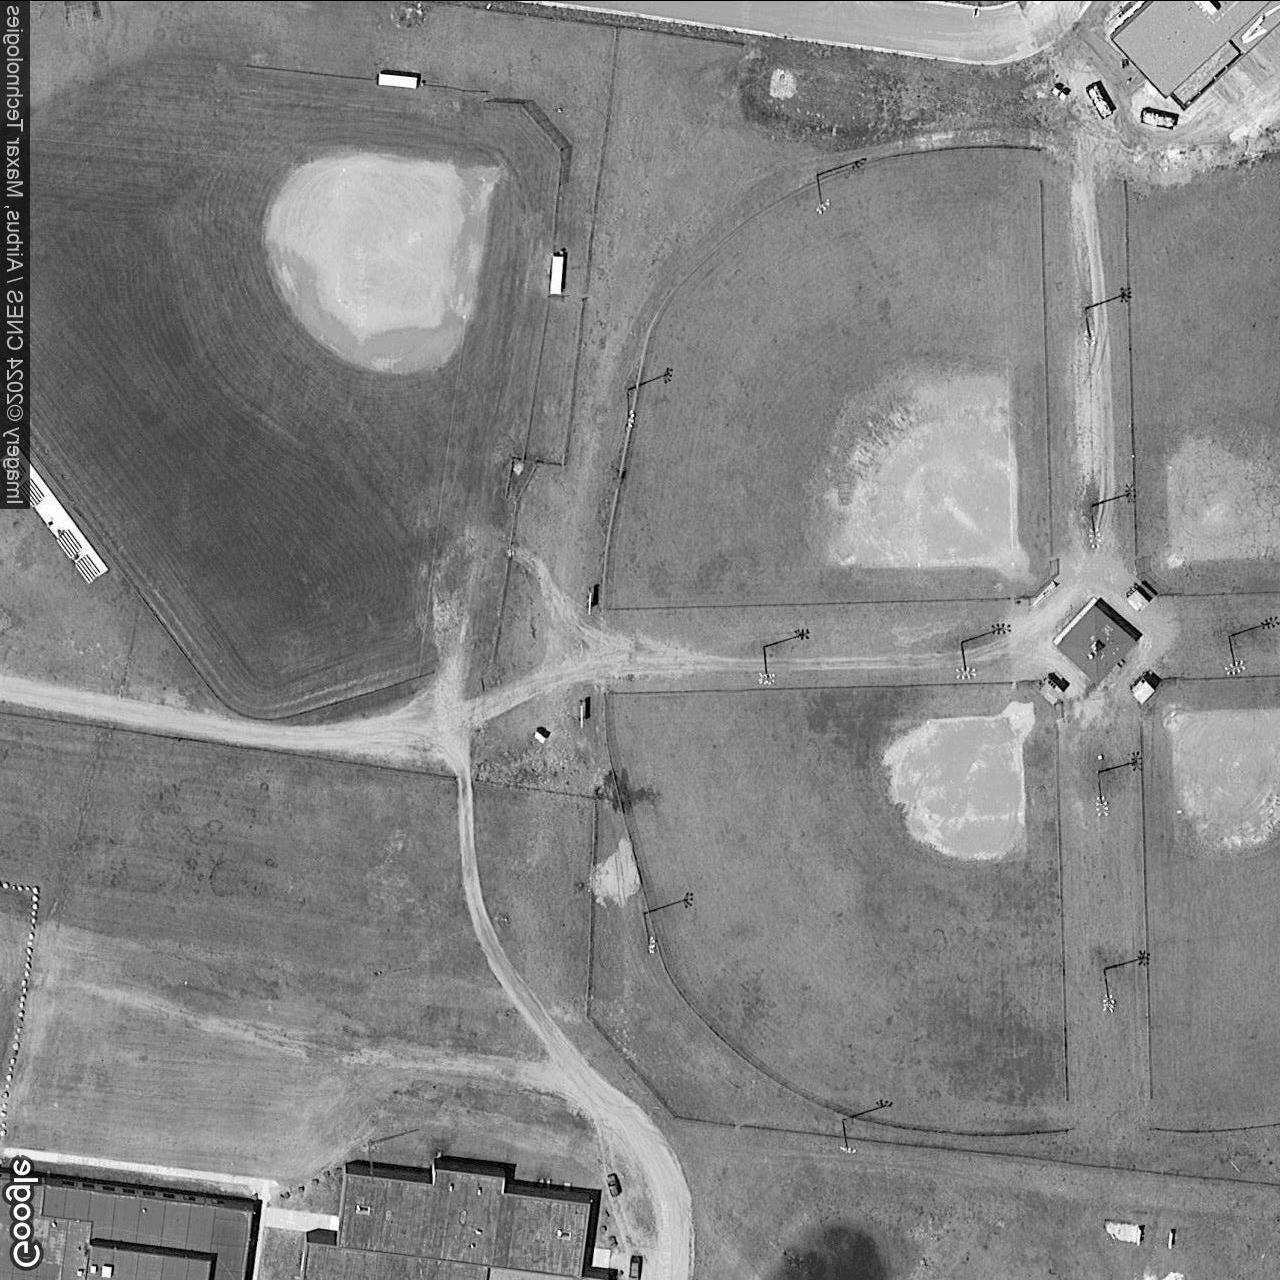Other: (298, 1158, 614, 1280), (1, 1167, 258, 1280), (1104, 1, 1280, 109), (1056, 602, 1139, 686)
